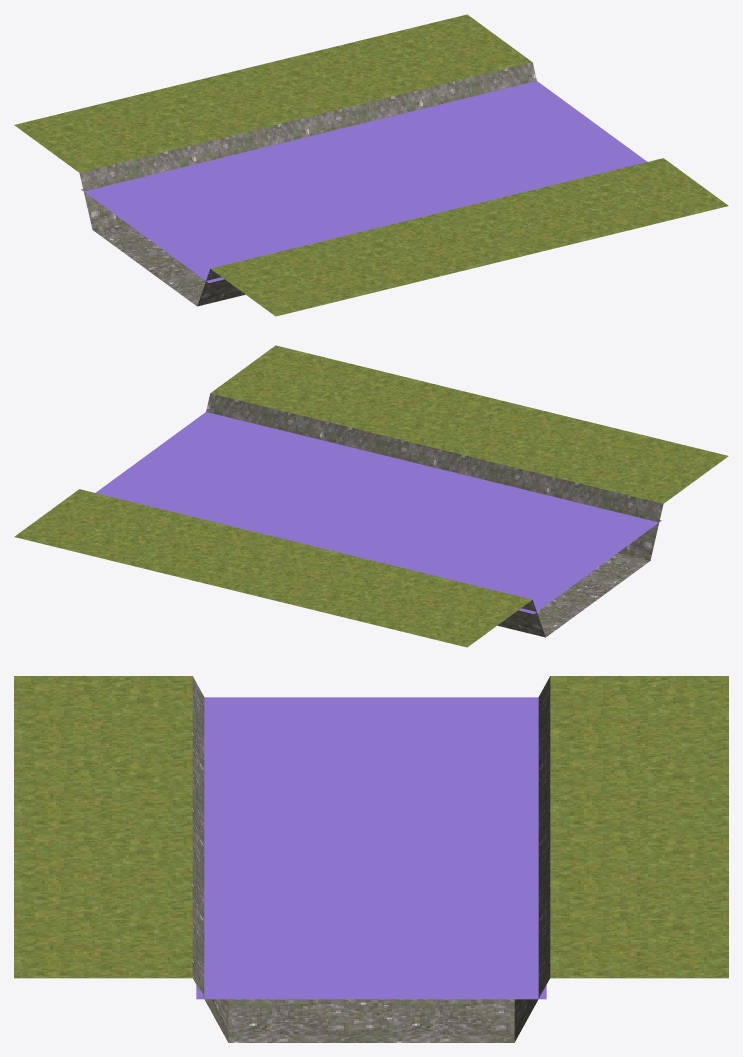
Rendered from piece_river_straight.glb.
3 renders of one model, top to bottom at view 1: azimuth 30°, elevation 25°; view 2: azimuth 150°, elevation 25°; view 3: azimuth 270°, elevation 25°, orthographic. The views are drawn at different scales.
Parts seen in each view (by area): view 1: piece_river_straight; view 2: piece_river_straight; view 3: piece_river_straight.
Part boxes in pixels (<box>): piece_river_straight: <box>14,14,728,316</box>; piece_river_straight: <box>14,345,728,647</box>; piece_river_straight: <box>14,676,728,1042</box>.
Size of what is drawn, in the model's own units: 4 by 0.4 by 4.
Materials: 3 (2 with a texture image).
